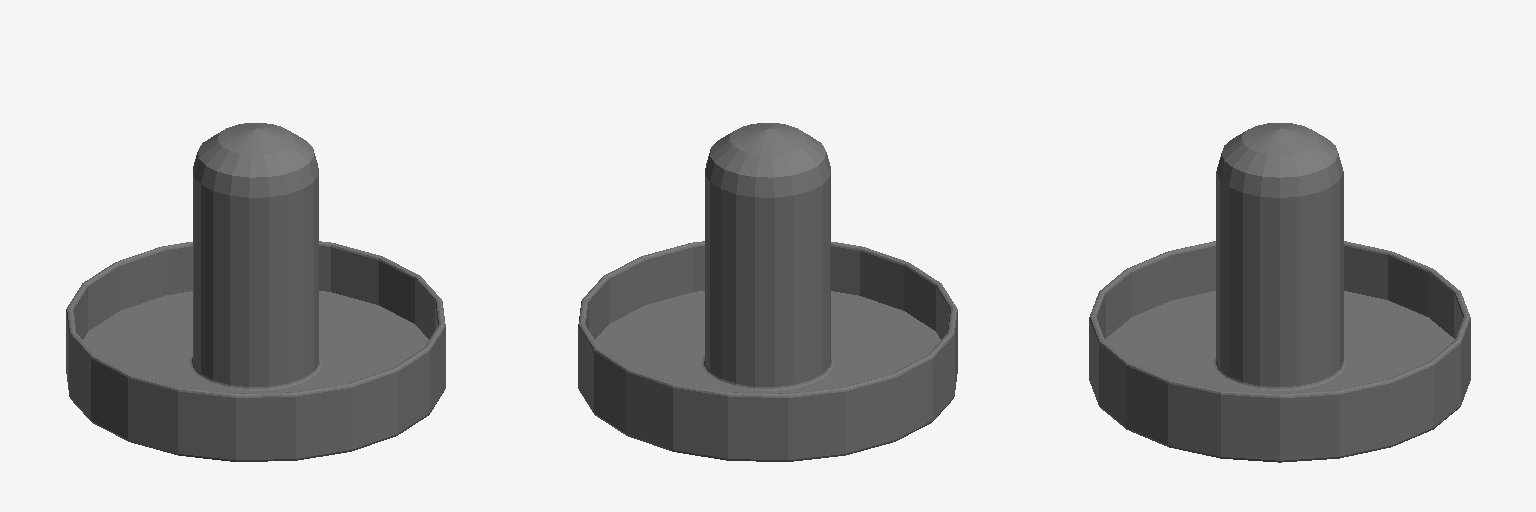
Rendered from HockeyPaddle.obj.
3 views of the same model, side by side, from view 1: azimuth 30°, elevation 25°; view 2: azimuth 150°, elevation 25°; view 3: azimuth 270°, elevation 25° (orthographic).
Visible parts, largest first — view 1: HockeyPaddle; view 2: HockeyPaddle; view 3: HockeyPaddle.
Part boxes in pixels (x1,y1,x2,y2): HockeyPaddle: (66, 123, 445, 461); HockeyPaddle: (578, 123, 957, 461); HockeyPaddle: (1089, 123, 1470, 462).
Size of the model in its own units: 2 by 1.47 by 2.